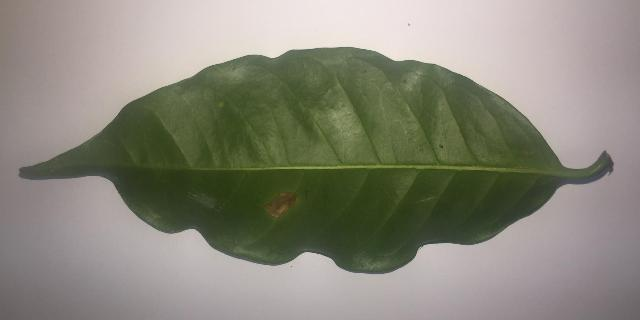cercospora: (264, 192, 296, 217)
